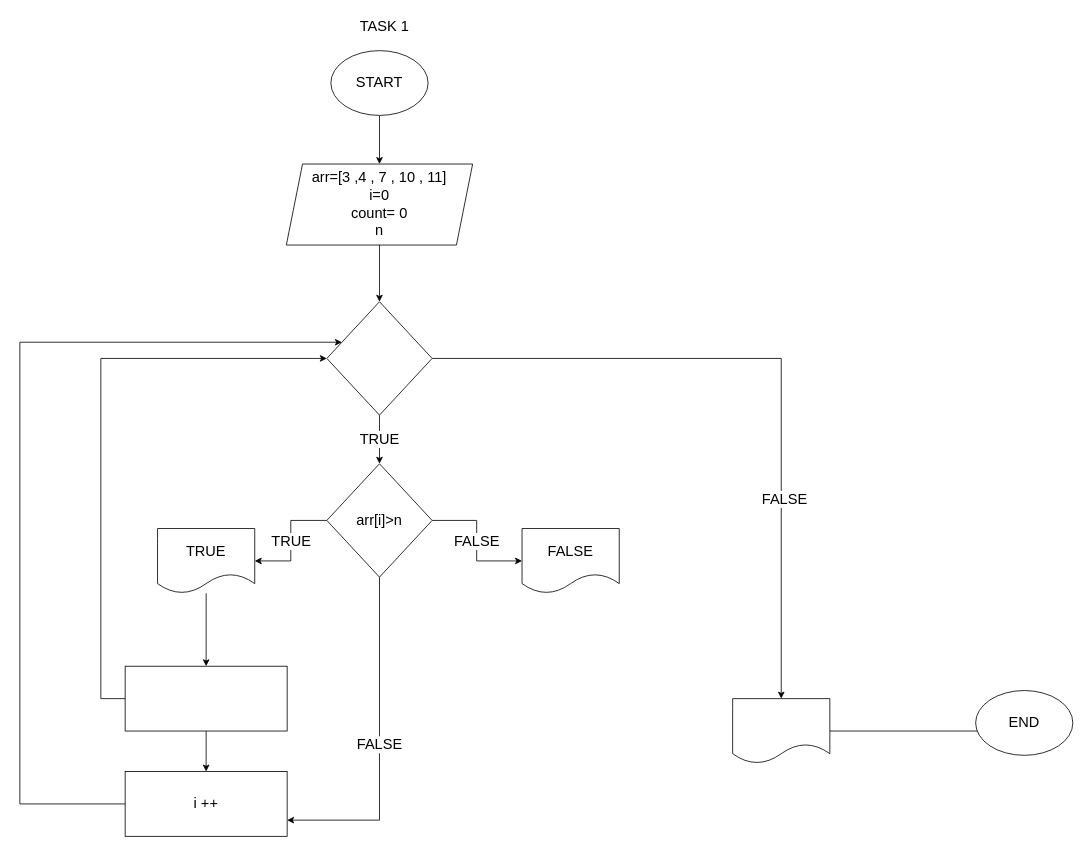
Some shapes in this 1087 by 851 pixel diagram are drawn without their labels. The centre of each missing label's shape, as x and y in pixels:
"COUNT" goes at pixel 781 730.
"count ++ ;" goes at pixel 205 698.
"i<arr.length" goes at pixel 379 358.
